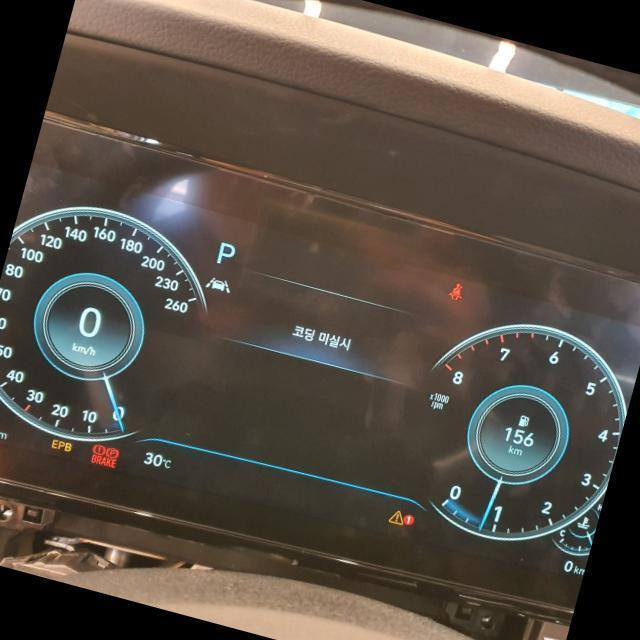Central Warning lamp: (386, 507, 406, 526)
LaneCenteringOff: (202, 272, 232, 293)
